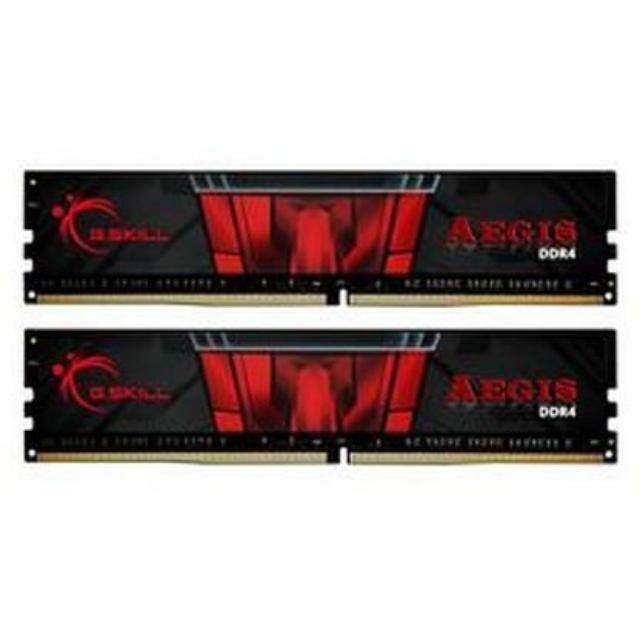RAM: (20, 164, 620, 308), (18, 324, 622, 467)
